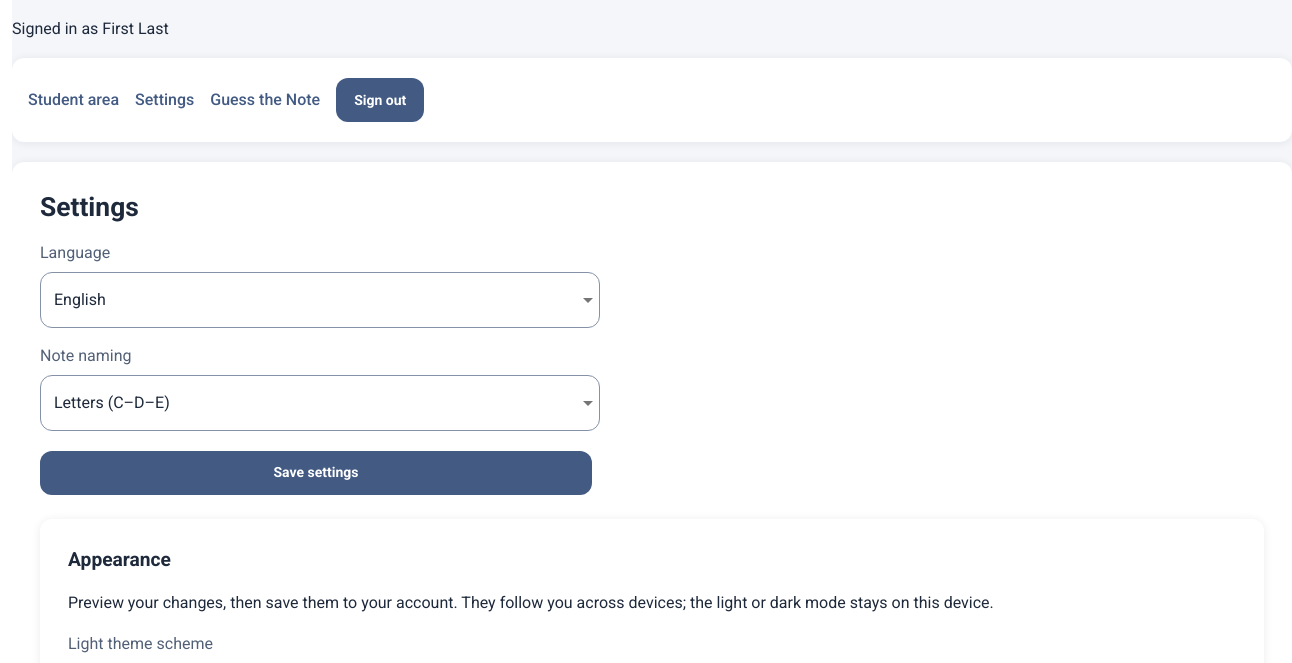
Test case: saves language and note naming and applies the returned language
The image size is (1292, 663).
Select "Solfège (do–re–mi)" in the dropdown labelled "Note naming" at (320, 403), box [40,375,600,431]
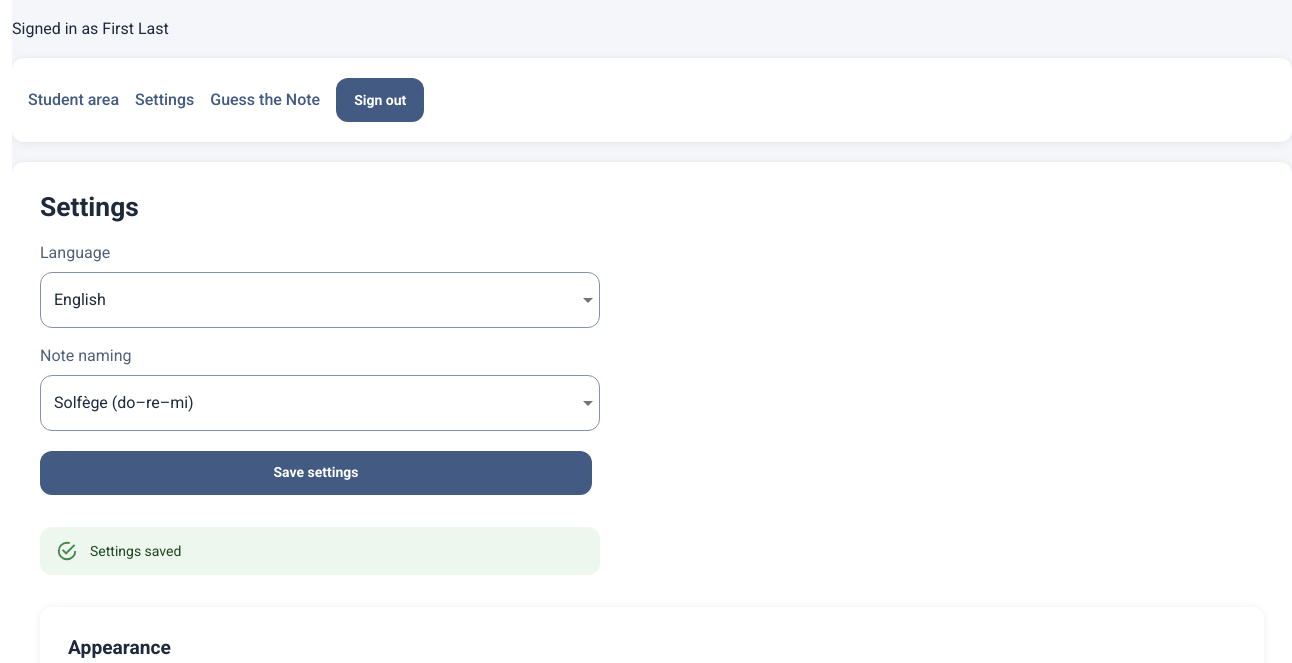
Result: the text "Settings saved" is shown at [90,543,181,559]
Select "Russian" in the dropdown labelled "Language" at (320, 300), box [40,272,600,328]
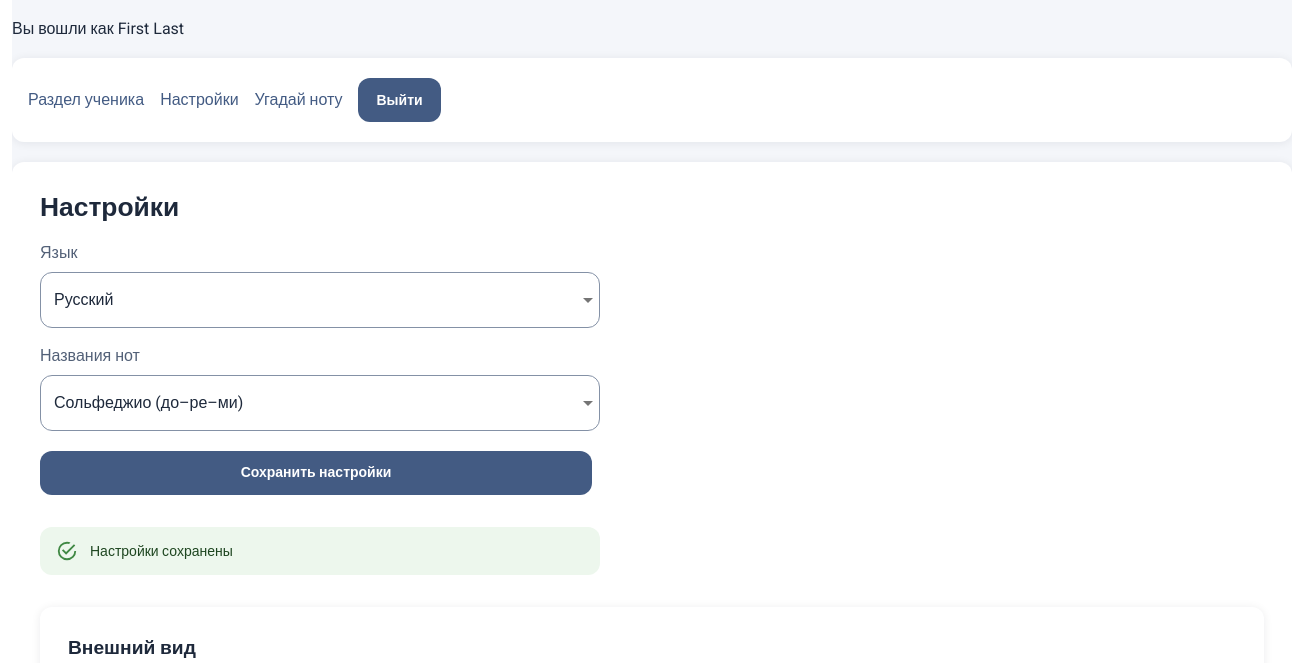
Result: the text "Настройки сохранены" is shown at [90,543,233,559]
